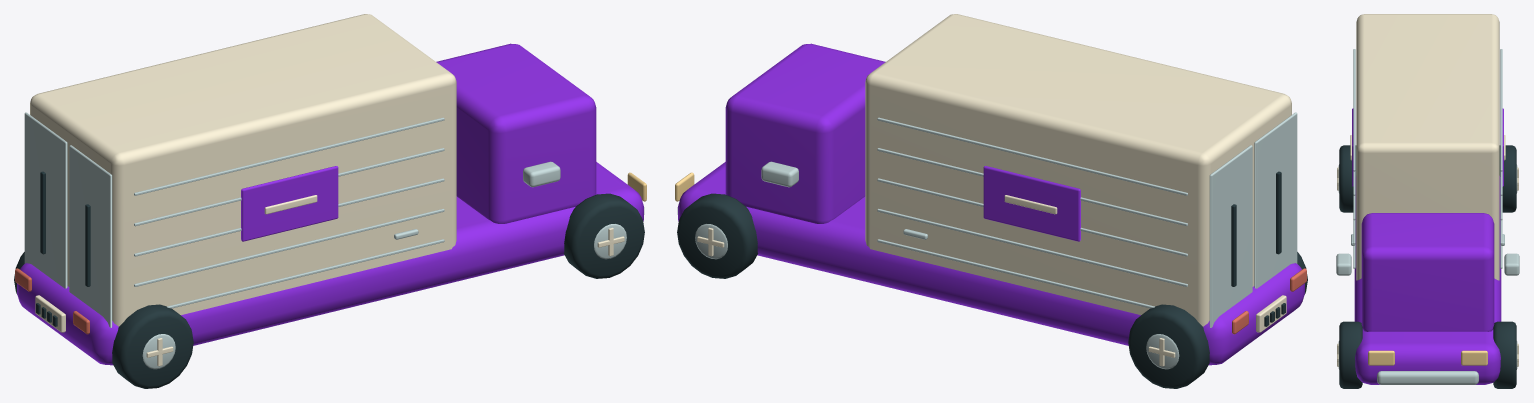
The model's file is delivery.glb.
The picture shows the model from 3 angles, left to right: view 1: azimuth 30°, elevation 25°; view 2: azimuth 150°, elevation 25°; view 3: azimuth 270°, elevation 25°; orthographic projection. The views are drawn at different scales.
Parts seen in each view (by area): view 1: Warm white trim.008, Paint delivery, Wheel hubs.008, Rolling wheels.008, Tyre rubber.008, Tail lamp.008; view 2: Warm white trim.008, Paint delivery, Wheel hubs.008, Rolling wheels.008, Tyre rubber.008, Tail lamp.008; view 3: Warm white trim.008, Paint delivery, Rolling wheels.008, Wheel hubs.008, Headlamp.008.
Boxes of the visible parts, x1,y1,x2,y2 form: Warm white trim.008: (30,14,456,332); Paint delivery: (17,43,643,365); Wheel hubs.008: (24,112,644,327); Rolling wheels.008: (14,193,644,388); Tyre rubber.008: (36,171,90,326); Tail lamp.008: (15,268,89,334); Warm white trim.008: (865,14,1291,332); Paint delivery: (678,43,1304,365); Wheel hubs.008: (677,112,1297,327); Rolling wheels.008: (677,193,1307,388); Tyre rubber.008: (1231,171,1285,326); Tail lamp.008: (1232,268,1306,334); Warm white trim.008: (1350,14,1505,280); Paint delivery: (1352,108,1503,384); Rolling wheels.008: (1337,145,1518,388); Wheel hubs.008: (1336,49,1519,384); Headlamp.008: (1368,350,1487,365).
Size of the model in its own units: 2.94 by 1.15 by 1.03.
